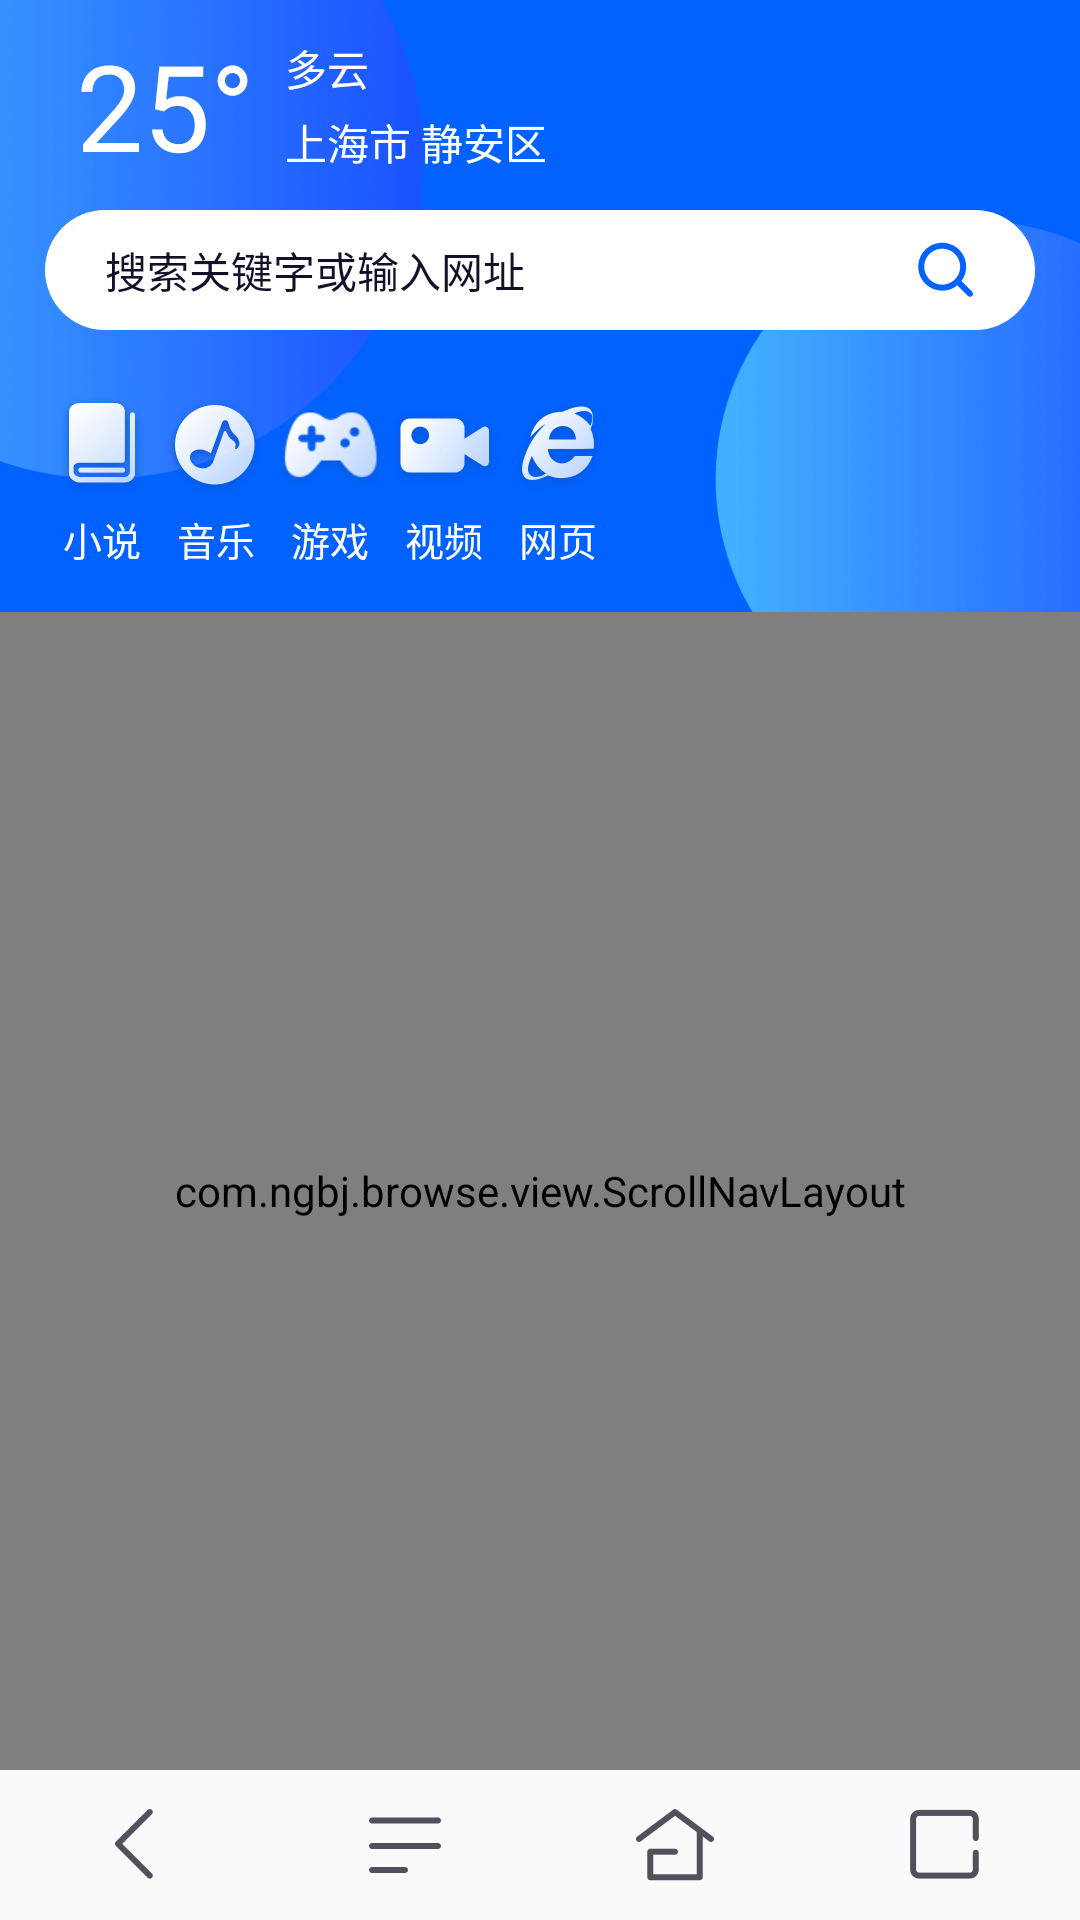

Icon bounding boxes for this 1080px x 1920px phone screenshot, format (x1, y1, x2, y2):
index bottom back: (115, 1809, 153, 1879)
index bottom home: (636, 1809, 714, 1881)
index bottom meun: (369, 1817, 441, 1873)
index bottom page: (910, 1810, 979, 1879)
